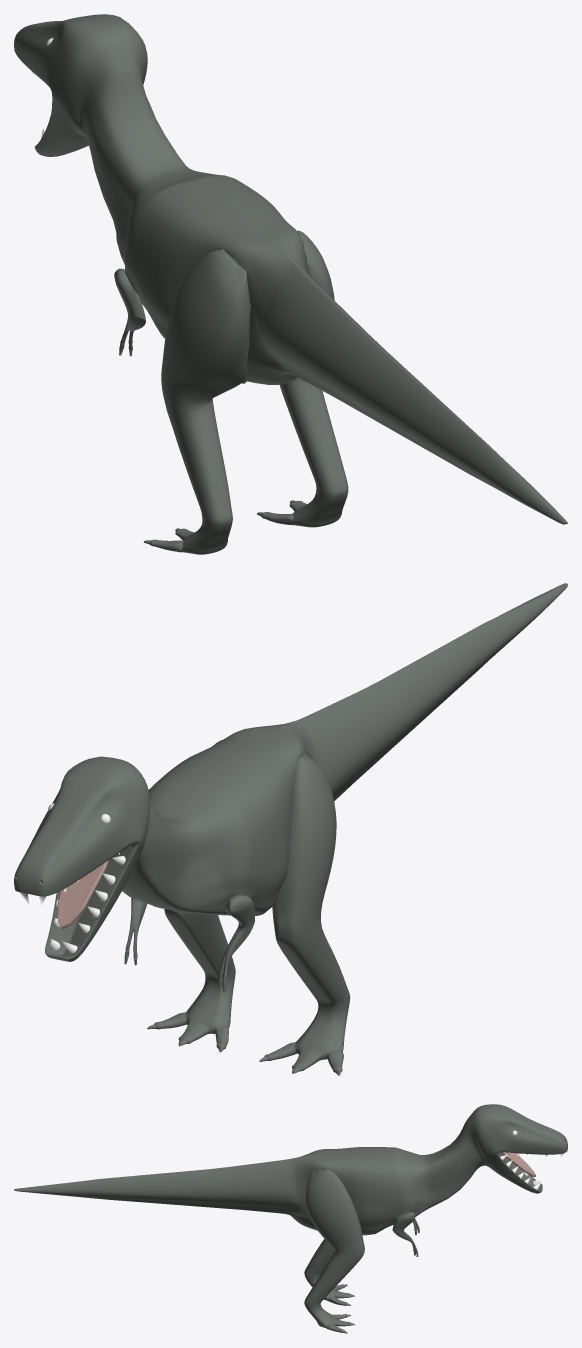
Rendered from Velociraptor.fbx.
3 views of the same model, one above another, from view 1: azimuth 30°, elevation 25°; view 2: azimuth 150°, elevation 25°; view 3: azimuth 270°, elevation 25° (orthographic). The views are drawn at different scales.
Visible parts, largest first — view 1: pSphere2; view 2: pSphere2; view 3: pSphere2.
Boxes of the visible parts, x1=… form: pSphere2: x1=14, y1=14, x2=567, y2=554; pSphere2: x1=14, y1=583, x2=567, y2=1075; pSphere2: x1=14, y1=1104, x2=567, y2=1333.
Size of the model in its own units: 2.84 by 5.55 by 13.73.
